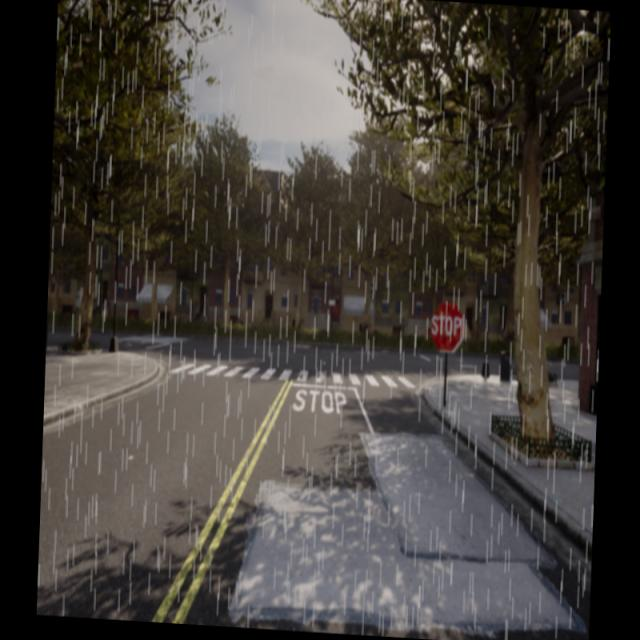stop sign: (428, 298, 467, 354)
